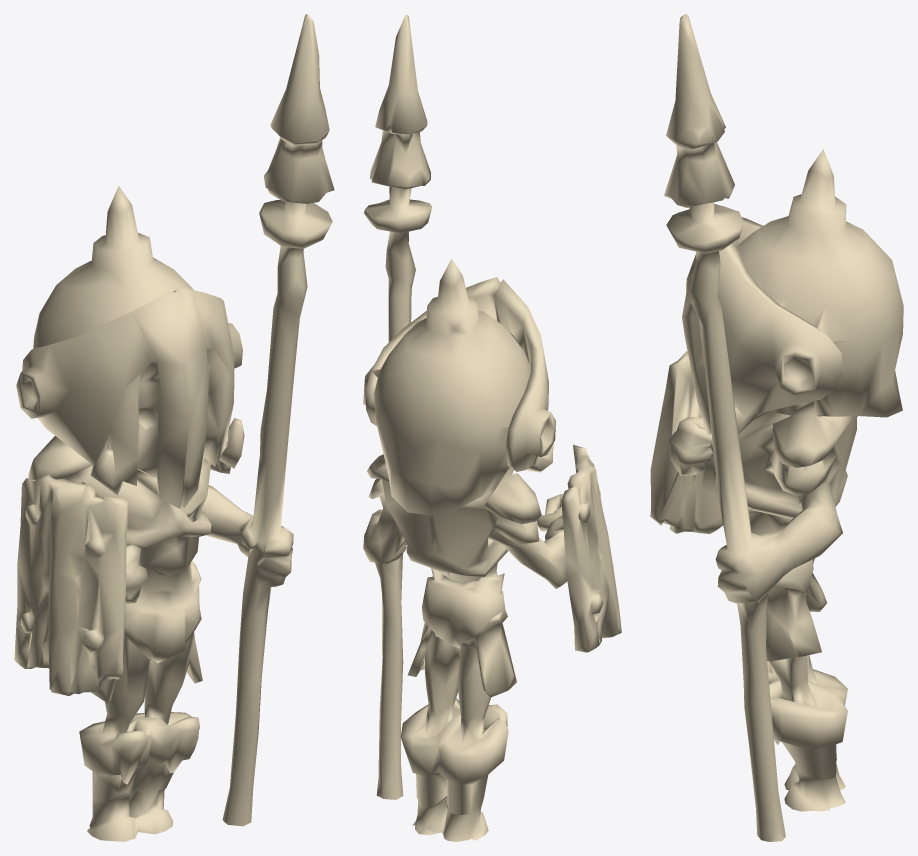
Rendered from original-pawn.glb.
3 views of the same model, side by side, from view 1: azimuth 30°, elevation 25°; view 2: azimuth 150°, elevation 25°; view 3: azimuth 270°, elevation 25° (orthographic). The views are drawn at different scales.
Parts seen in each view (by area): view 1: Original_sculpt.002; view 2: Original_sculpt.002; view 3: Original_sculpt.002.
Part boxes in pixels (x1,y1,x2,y2): Original_sculpt.002: (14, 14, 334, 841); Original_sculpt.002: (363, 14, 621, 841); Original_sculpt.002: (650, 14, 903, 841).
Size of the model in its own units: 0.3179 by 0.9015 by 0.2477.
